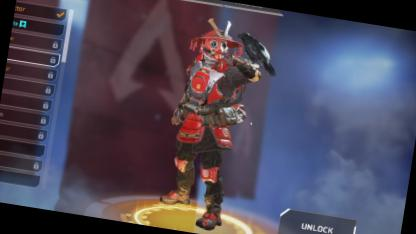Target: (165, 16, 244, 201)
